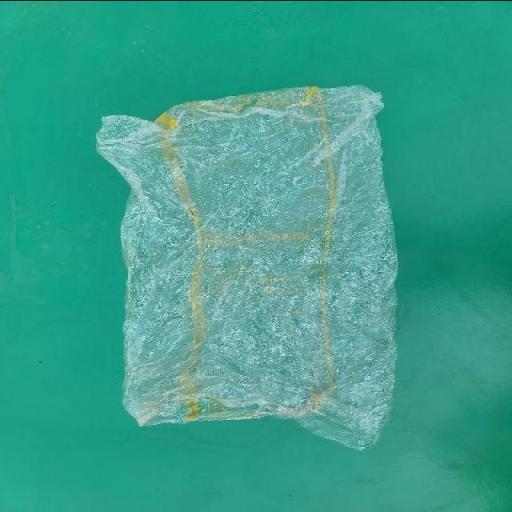plastic-bag: (92, 85, 402, 453)
